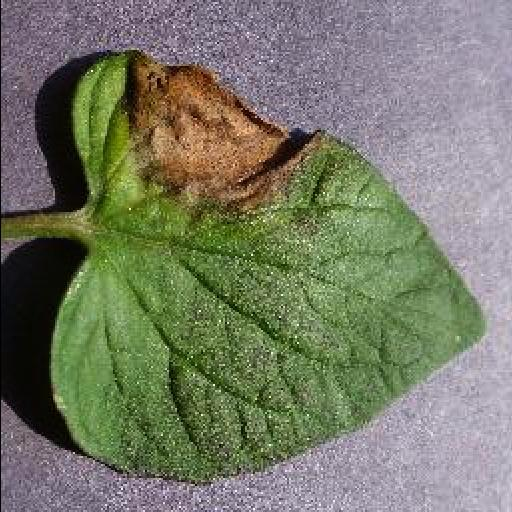disease_tomato: (46, 54, 490, 488)
